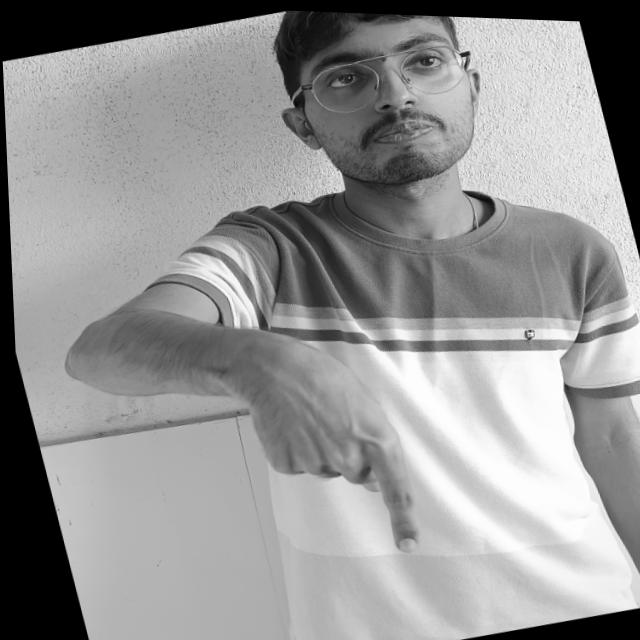Now: (139, 279, 498, 607)
